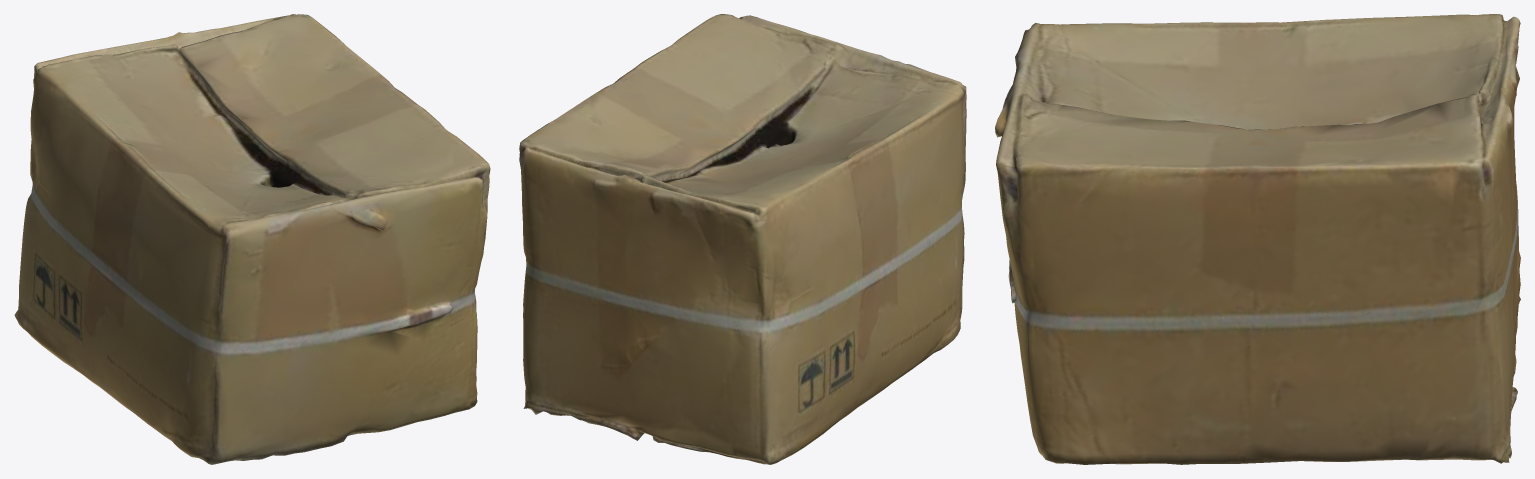
Rendered from cardboard_box_01.glb.
The picture shows the model from 3 angles, left to right: view 1: azimuth 30°, elevation 25°; view 2: azimuth 150°, elevation 25°; view 3: azimuth 270°, elevation 25°; orthographic projection. The views are drawn at different scales.
Parts seen in each view (by area): view 1: cardboard_box_01; view 2: cardboard_box_01; view 3: cardboard_box_01.
Part boxes in pixels (<box>): cardboard_box_01: <box>14,14,490,464</box>; cardboard_box_01: <box>519,14,966,464</box>; cardboard_box_01: <box>995,14,1520,464</box>.
Size of the model in its own units: 0.3869 by 0.3418 by 0.5159.
Materials: 1 (1 with a texture image).
